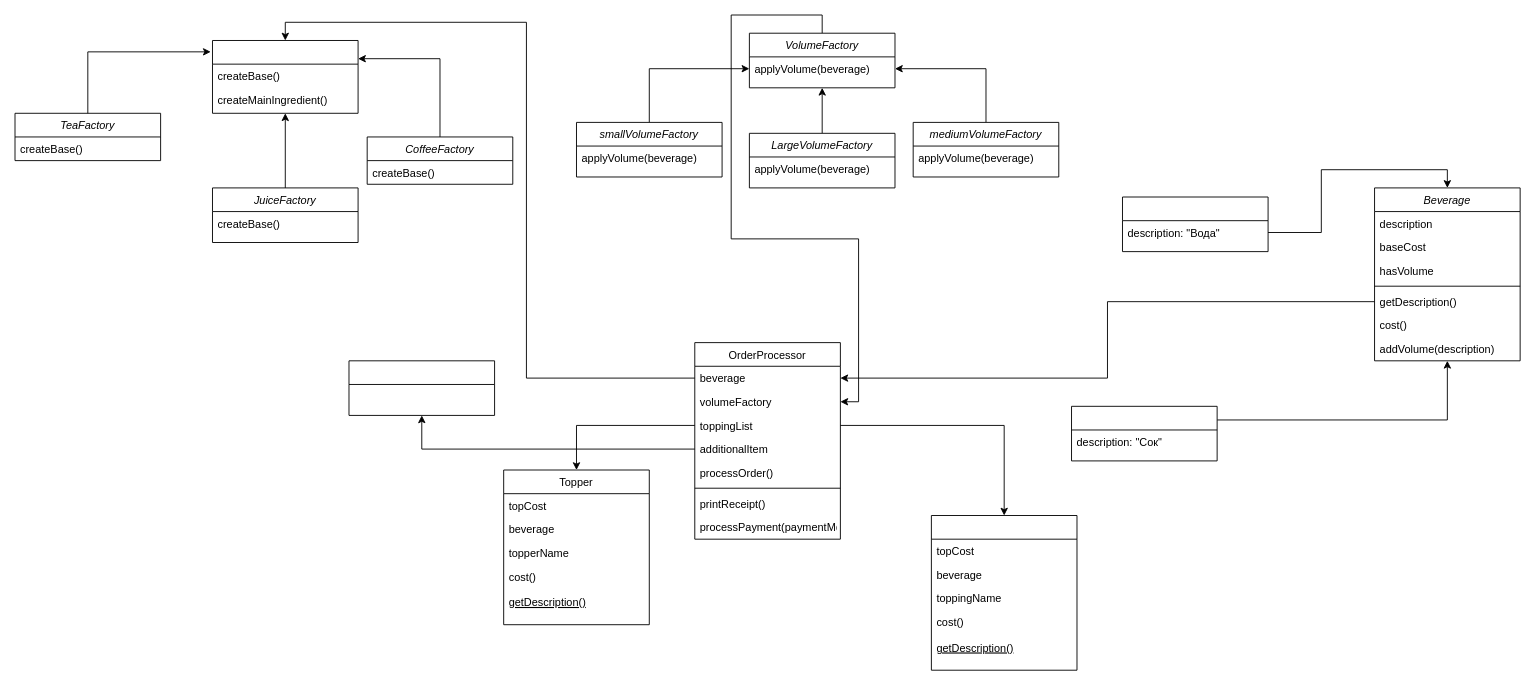
Some shapes in this 1535 by 685 pixel diagram are drawn without their labels. Each missing label, with the box of its shape:
AdditionalItems: (348, 360, 495, 415)
BeverageFactory: (212, 40, 358, 113)
JuiceBase: (1071, 405, 1217, 461)
Toppings: (930, 515, 1077, 670)
Water: (1122, 196, 1268, 252)
